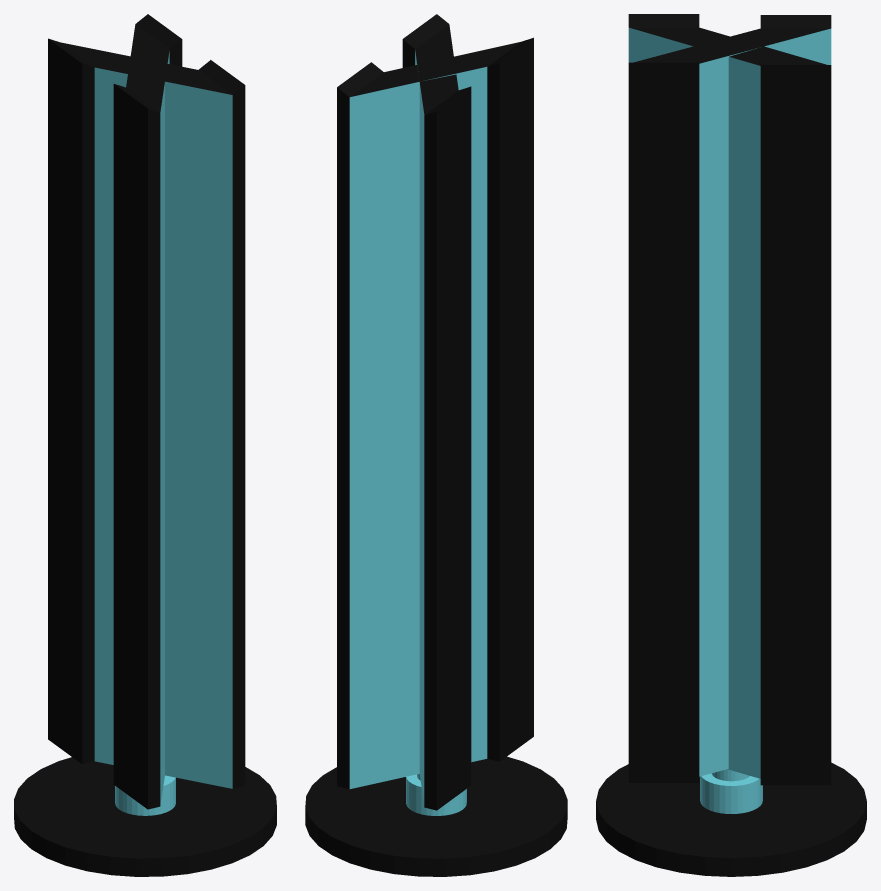
The model's file is WeirdThing_1.fbx.
3 views of the same model, side by side, from view 1: azimuth 30°, elevation 25°; view 2: azimuth 150°, elevation 25°; view 3: azimuth 270°, elevation 25° (orthographic). The views are drawn at different scales.
Visible parts, largest first — view 1: Cylinder.003; view 2: Cylinder.003; view 3: Cylinder.003.
Part boxes in pixels (x1,y1,x2,y2): Cylinder.003: (14, 14, 276, 876); Cylinder.003: (305, 14, 567, 876); Cylinder.003: (596, 14, 866, 876).
Size of the model in its own units: 331 by 1054 by 331.
